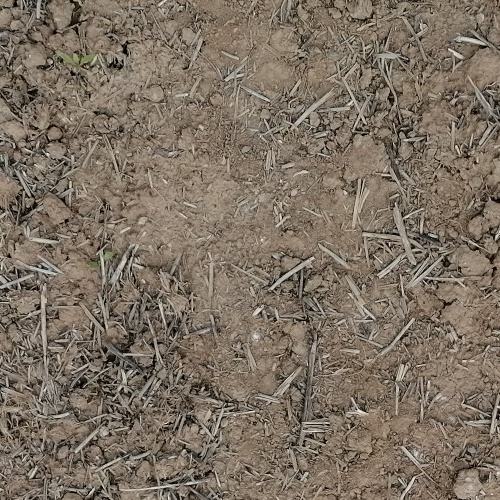beet: (57, 50, 95, 70), (90, 251, 113, 267)
